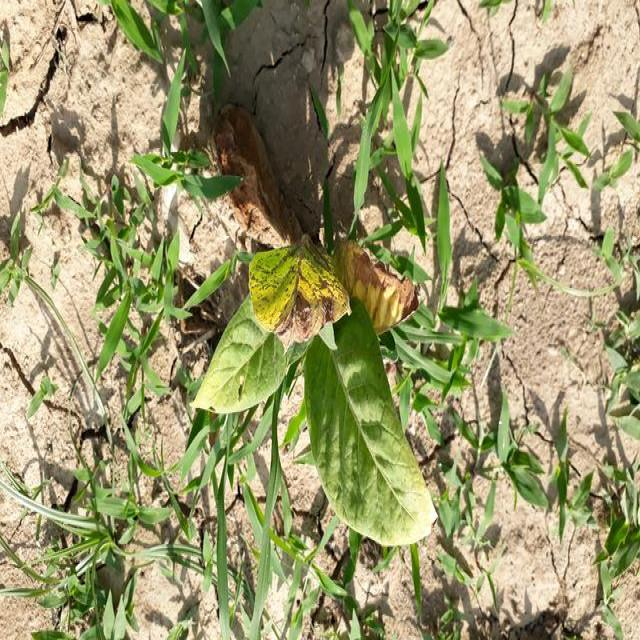crop: (208, 232, 435, 554)
